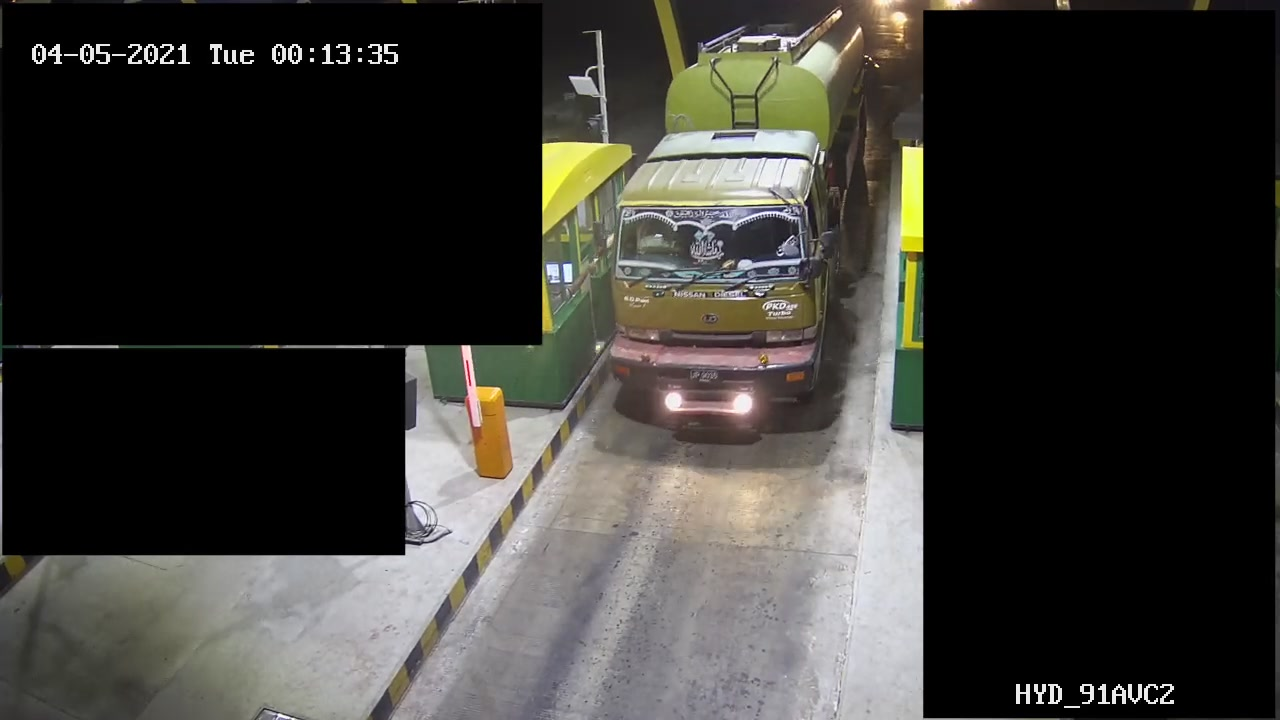F6: (592, 1, 864, 451)
